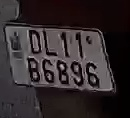1: (59, 31, 71, 59), (73, 32, 85, 59)
6: (85, 62, 102, 89), (39, 58, 56, 84)
8: (55, 60, 70, 85)
9: (69, 61, 85, 87)
B: (26, 56, 41, 83)
D: (26, 27, 41, 54)
L: (41, 30, 59, 57)
